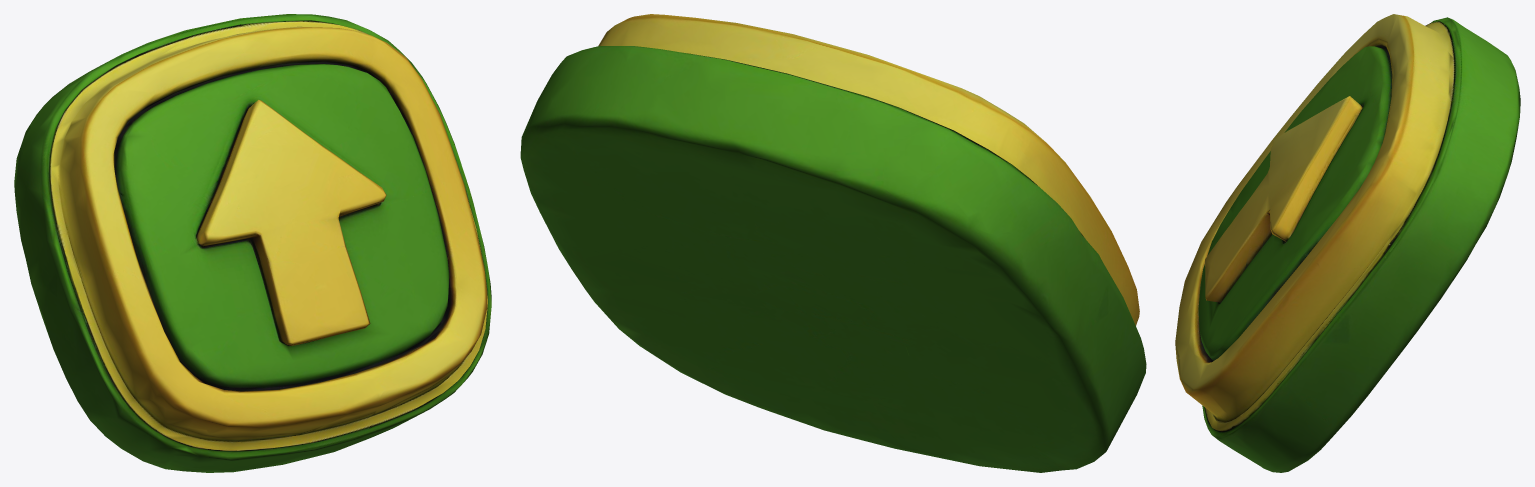
File: ui_upgrade_button.glb
3 renders of one model, left to right at view 1: azimuth 30°, elevation 25°; view 2: azimuth 150°, elevation 25°; view 3: azimuth 270°, elevation 25°, orthographic. The views are drawn at different scales.
Visible parts, largest first — view 1: tripo_node_4b0dc696-b183-4740-89e2-14bf4c0ada4e; view 2: tripo_node_4b0dc696-b183-4740-89e2-14bf4c0ada4e; view 3: tripo_node_4b0dc696-b183-4740-89e2-14bf4c0ada4e.
Boxes of the visible parts, x1,y1,x2,y2 form: tripo_node_4b0dc696-b183-4740-89e2-14bf4c0ada4e: (14, 14, 491, 472); tripo_node_4b0dc696-b183-4740-89e2-14bf4c0ada4e: (520, 14, 1146, 472); tripo_node_4b0dc696-b183-4740-89e2-14bf4c0ada4e: (1175, 14, 1520, 472).
Bounding box in the file's own units: 1 × 0.8611 × 0.7274.
Materials: 1 (1 with a texture image).
